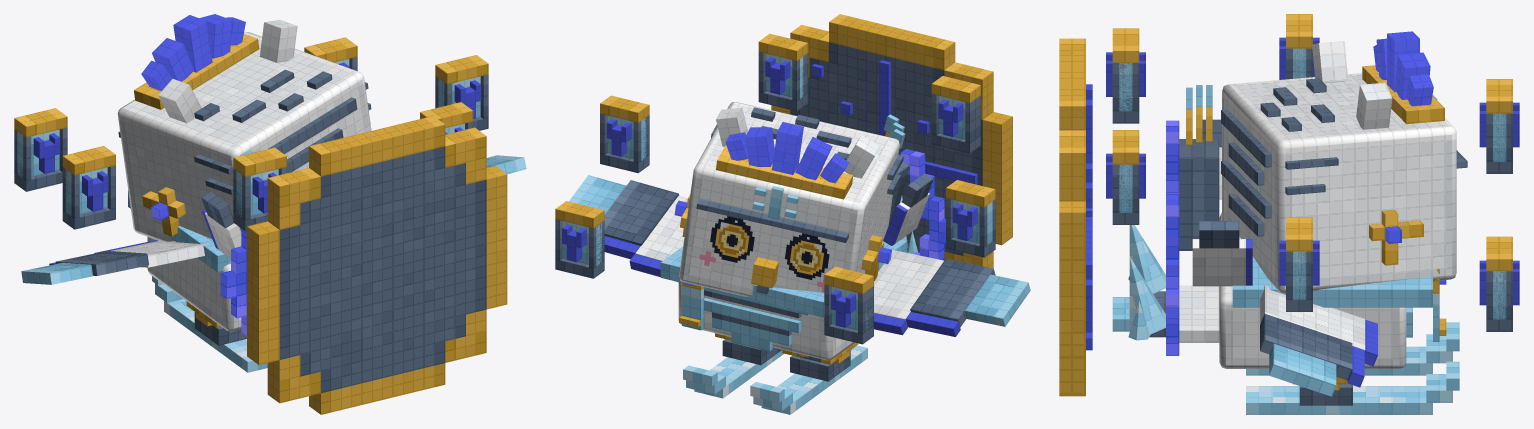
File: Skaddle.glb
3 renders of one model, left to right at view 1: azimuth 30°, elevation 25°; view 2: azimuth 150°, elevation 25°; view 3: azimuth 270°, elevation 25°, orthographic. The views are drawn at different scales.
Parts seen in each view (by area): view 1: frost, Body, halo, crestL, wingL, Glow, hindwingL, tuftR, tuftL, wingR; view 2: Body, frost, halo, wingL, wingR, crestL, FacePlate, Glow, hindwingL, scarfR, tuftL, quiverL (+1 smaller); view 3: Body, halo, frost, wingR, quiverL, hindwingR, Glow, crestL, tuftR, tuftL, scarfR, hindwingL.
Boxes of the visible parts, bbox=[...] form: frost: bbox=[247, 116, 507, 414]; Body: bbox=[117, 32, 371, 372]; halo: bbox=[14, 37, 488, 231]; crestL: bbox=[141, 14, 245, 90]; wingL: bbox=[21, 240, 208, 284]; Glow: bbox=[151, 202, 246, 336]; hindwingL: bbox=[201, 191, 241, 258]; tuftR: bbox=[259, 20, 297, 62]; tuftL: bbox=[158, 78, 201, 123]; wingR: bbox=[486, 155, 526, 174]; Body: bbox=[660, 102, 917, 414]; frost: bbox=[771, 14, 1012, 268]; halo: bbox=[555, 33, 995, 344]; wingL: bbox=[874, 250, 1030, 336]; wingR: bbox=[569, 175, 687, 282]; crestL: bbox=[725, 122, 848, 183]; FacePlate: bbox=[699, 216, 829, 292]; Glow: bbox=[674, 149, 945, 285]; hindwingL: bbox=[883, 173, 933, 245]; scarfR: bbox=[679, 285, 703, 330]; tuftL: bbox=[844, 135, 880, 178]; quiverL: bbox=[884, 114, 909, 224]; Body: bbox=[1112, 65, 1467, 414]; halo: bbox=[1106, 14, 1519, 331]; frost: bbox=[1059, 38, 1092, 396]; wingR: bbox=[1260, 285, 1377, 396]; quiverL: bbox=[1179, 85, 1219, 250]; hindwingR: bbox=[1192, 221, 1252, 286]; Glow: bbox=[1166, 120, 1446, 355]; crestL: bbox=[1373, 31, 1433, 106]; tuftR: bbox=[1356, 82, 1392, 129]; tuftL: bbox=[1312, 41, 1348, 83]; scarfR: bbox=[1433, 293, 1446, 341]; hindwingL: bbox=[1202, 119, 1221, 199].
Size of the model in its own units: 5.75 by 3.43 by 4.31.
3 materials, 3 textured.
